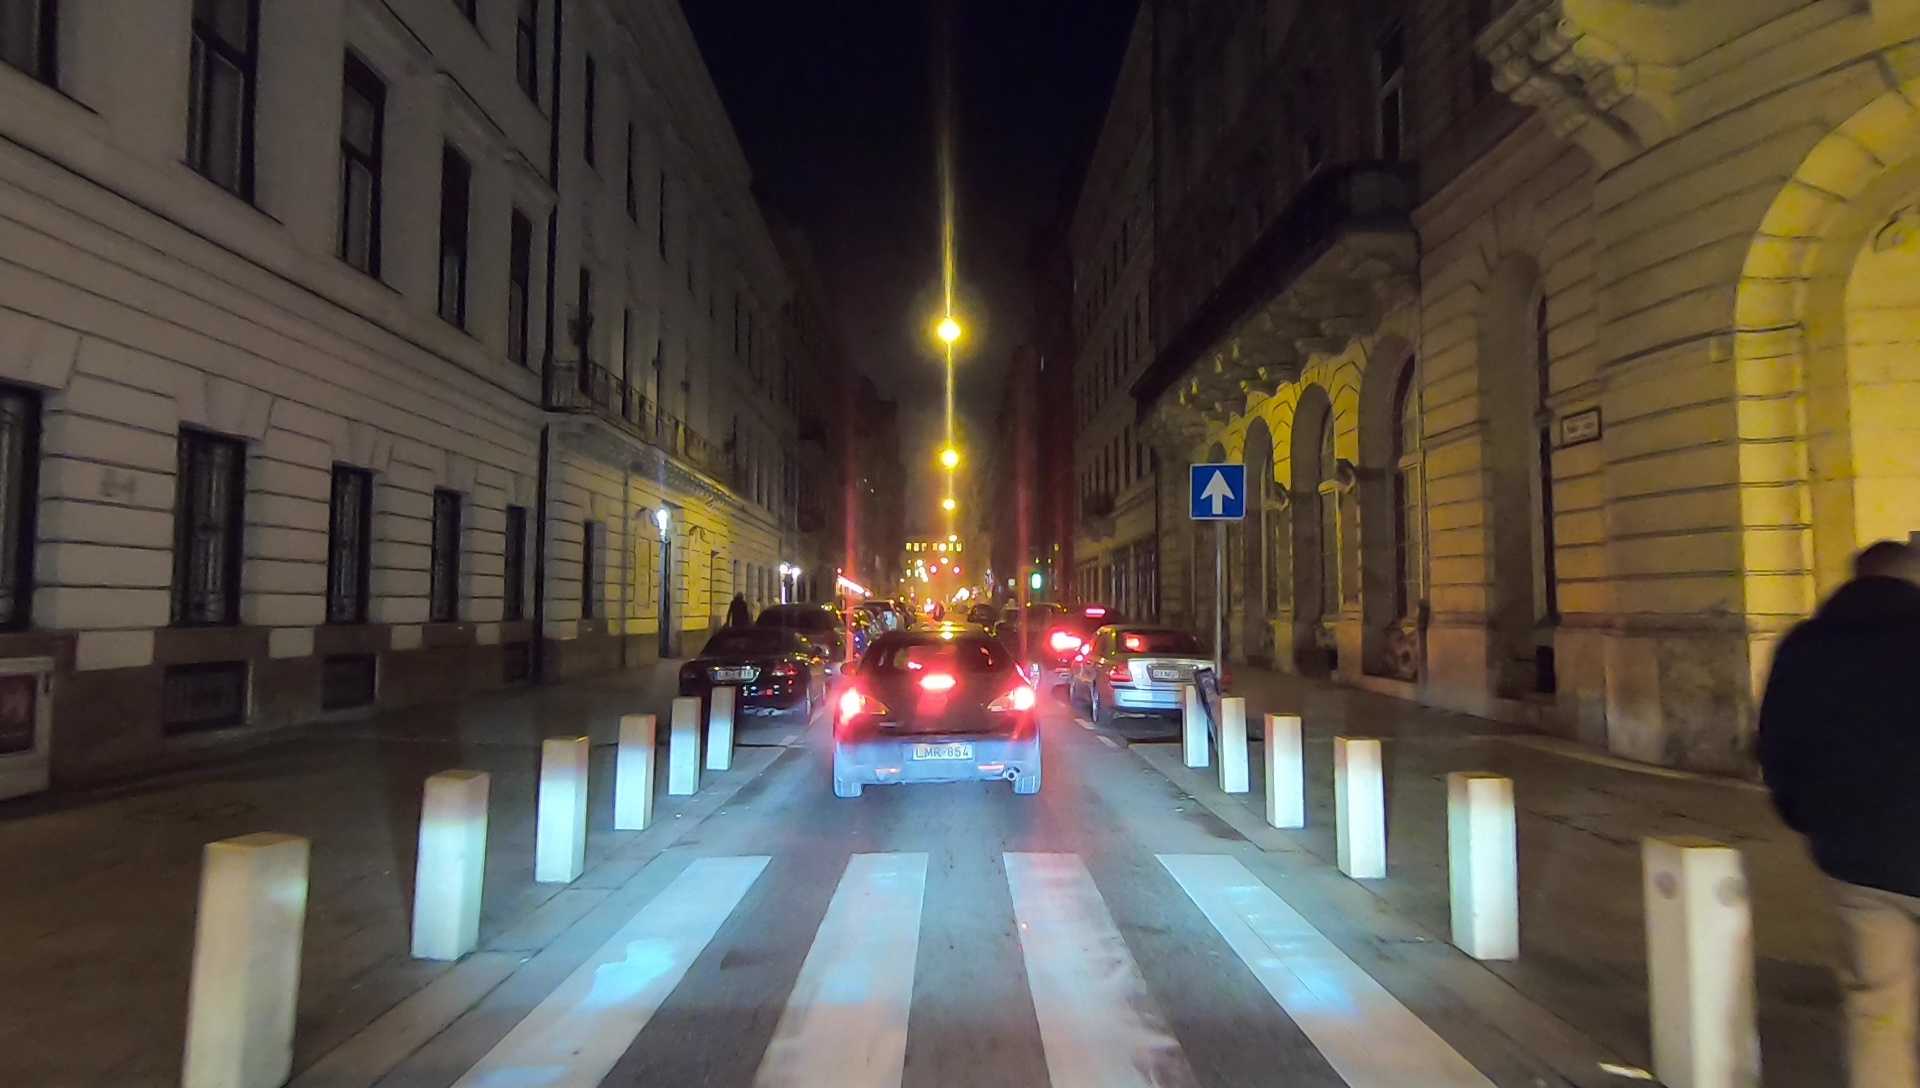person: (1758, 521, 1920, 1087), (721, 589, 751, 630)
